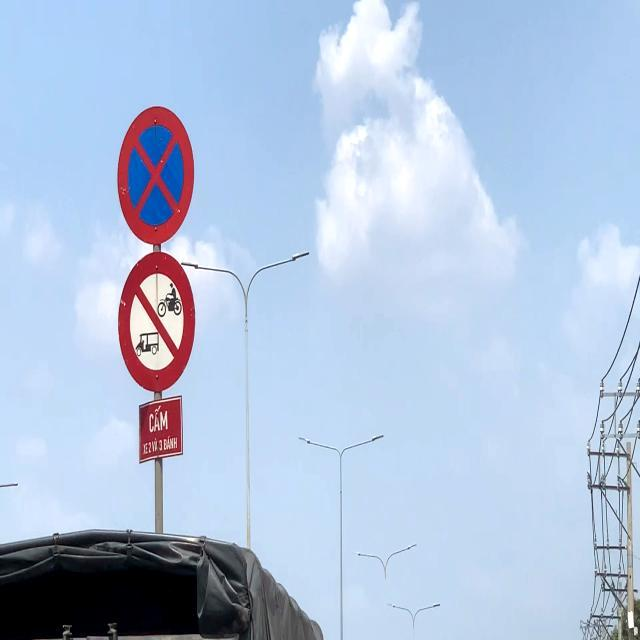Cam dung xe va do xe: (114, 102, 197, 250)
